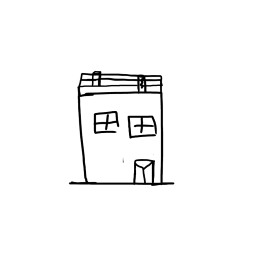chimney: (132, 69, 152, 94), (89, 67, 106, 89)
closed_window: (124, 112, 159, 142), (89, 108, 122, 137)
door: (129, 156, 160, 189)
roof: (63, 63, 179, 102)
small_house: (1, 0, 260, 260)
wall: (74, 89, 169, 190)
